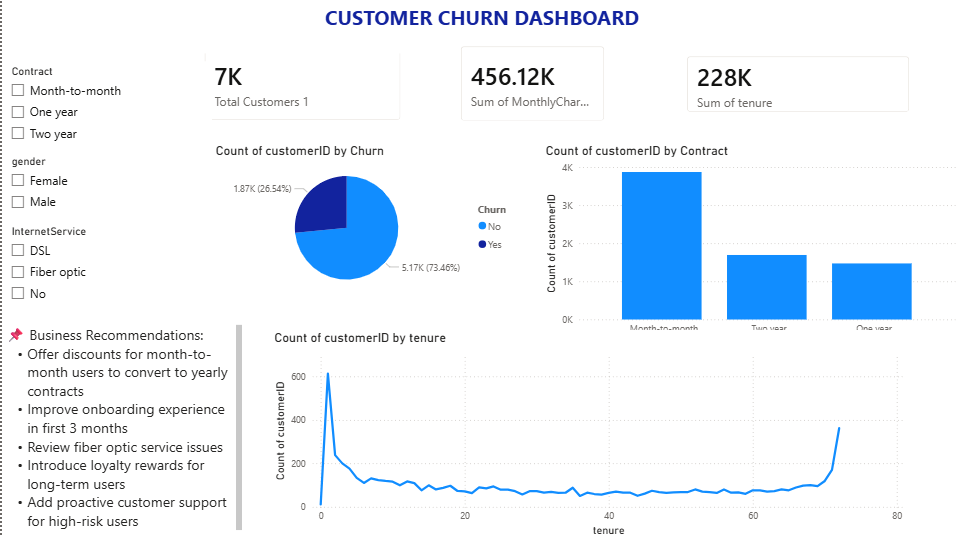

What the dashboard file says about the page in this screenshot:
{"tool":"powerbi","page":{"name":"Page 1","canvas":[1280,720],"ordinal":0},"visuals":[{"type":"cardVisual","fields":{"Data":["WA_Fn-UseC_-Telco-Customer-Churn.Total Customers 1"]},"box":[252.9,45.7,295.7,132.9],"z":0},{"type":"pieChart","fields":{"Category":["WA_Fn-UseC_-Telco-Customer-Churn.Churn"],"Y":["CountNonNull(WA_Fn-UseC_-Telco-Customer-Churn.customerID)"]},"box":[267.1,190,430,208.6],"z":1000},{"type":"clusteredColumnChart","fields":{"Category":["WA_Fn-UseC_-Telco-Customer-Churn.Contract"],"Y":["CountNonNull(WA_Fn-UseC_-Telco-Customer-Churn.customerID)"]},"box":[720,190,560,280],"z":2000},{"type":"lineChart","fields":{"Category":["WA_Fn-UseC_-Telco-Customer-Churn.tenure"],"Y":["CountNonNull(WA_Fn-UseC_-Telco-Customer-Churn.customerID)"]},"box":[252.9,440,955.7,280],"z":3000},{"type":"slicer","fields":{"Values":["WA_Fn-UseC_-Telco-Customer-Churn.Contract"]},"box":[0,81.4,280,138.6],"z":4000},{"type":"slicer","fields":{"Values":["WA_Fn-UseC_-Telco-Customer-Churn.gender"]},"box":[0,201.4,280,115.7],"z":5000},{"type":"slicer","fields":{"Values":["WA_Fn-UseC_-Telco-Customer-Churn.InternetService"]},"box":[0,294.3,225.7,122.9],"z":6000},{"type":"textbox","box":[0,0,1280,71.4],"z":6001},{"type":"cardVisual","fields":{"Data":["Sum(WA_Fn-UseC_-Telco-Customer-Churn.MonthlyCharges)"]},"box":[630,58.6,225.7,132.9],"z":6002},{"type":"cardVisual","fields":{"Data":["Sum(WA_Fn-UseC_-Telco-Customer-Churn.tenure)"]},"box":[897.1,58.6,330,108.6],"z":6003}]}

Visuals, with their boxes in screenshot pixels (x1, y1, x2, y2), scaled from the page's 1280x720 canvas onto the 958x536 screenshot:
cardVisual - WA_Fn-UseC_-Telco-Customer-Churn.Total Customers 1: bbox=(189, 34, 411, 133)
pieChart - WA_Fn-UseC_-Telco-Customer-Churn.Churn x CountNonNull(WA_Fn-UseC_-Telco-Customer-Churn.customerID): bbox=(200, 141, 522, 297)
clusteredColumnChart - WA_Fn-UseC_-Telco-Customer-Churn.Contract x CountNonNull(WA_Fn-UseC_-Telco-Customer-Churn.customerID): bbox=(539, 141, 957, 350)
lineChart - WA_Fn-UseC_-Telco-Customer-Churn.tenure x CountNonNull(WA_Fn-UseC_-Telco-Customer-Churn.customerID): bbox=(189, 328, 905, 535)
slicer - WA_Fn-UseC_-Telco-Customer-Churn.Contract: bbox=(0, 61, 210, 164)
slicer - WA_Fn-UseC_-Telco-Customer-Churn.gender: bbox=(0, 150, 210, 236)
slicer - WA_Fn-UseC_-Telco-Customer-Churn.InternetService: bbox=(0, 219, 169, 311)
textbox: bbox=(0, 0, 957, 53)
cardVisual - Sum(WA_Fn-UseC_-Telco-Customer-Churn.MonthlyCharges): bbox=(472, 44, 640, 143)
cardVisual - Sum(WA_Fn-UseC_-Telco-Customer-Churn.tenure): bbox=(671, 44, 918, 124)
